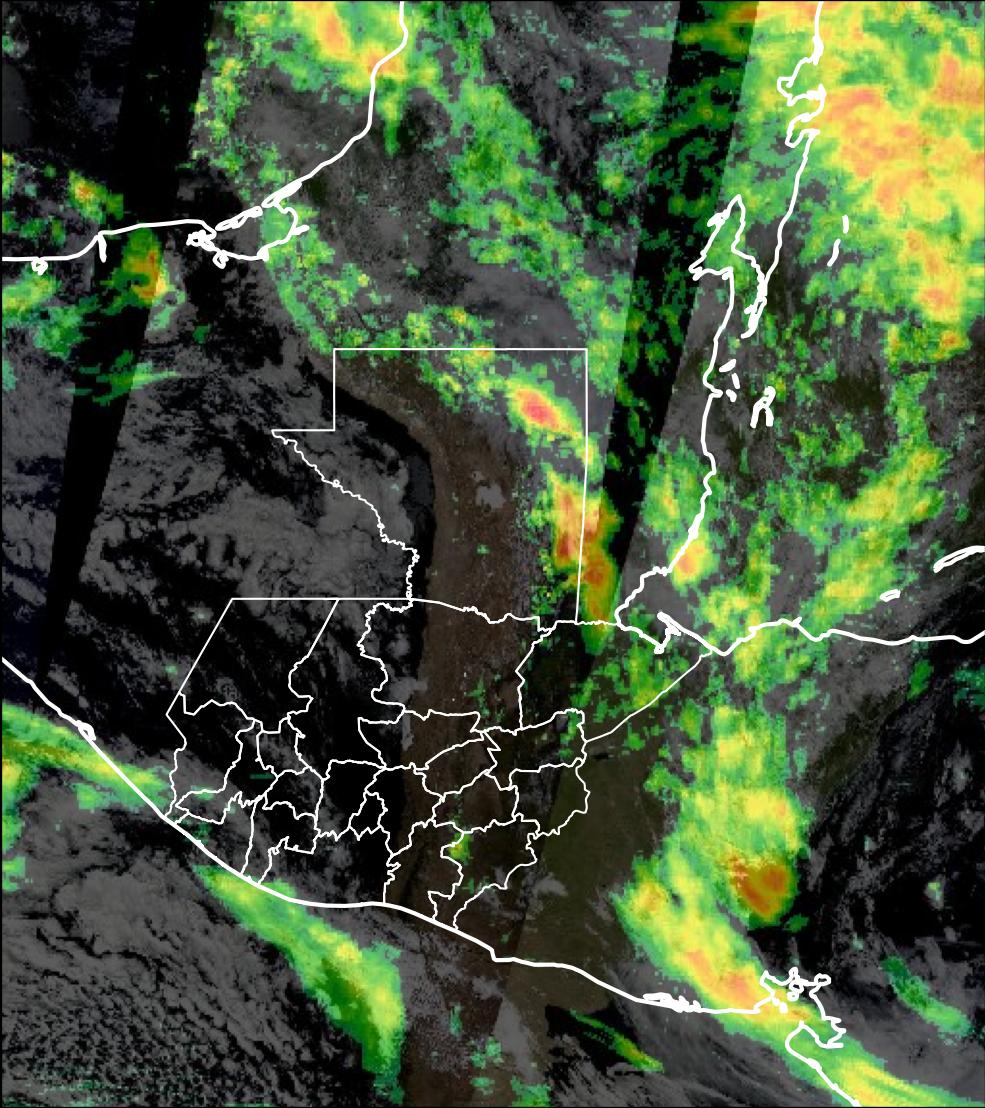precipitacion: (826, 90, 985, 224), (720, 844, 799, 926), (510, 377, 583, 452)
